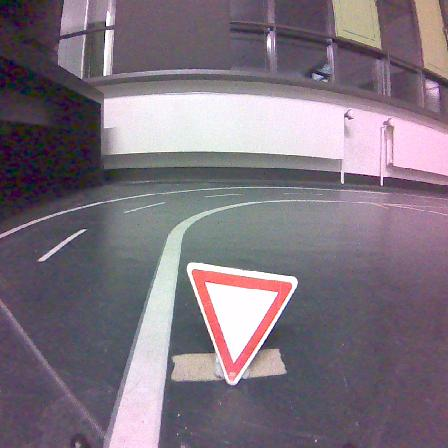GIVE_WAY: (187, 263, 296, 384)
